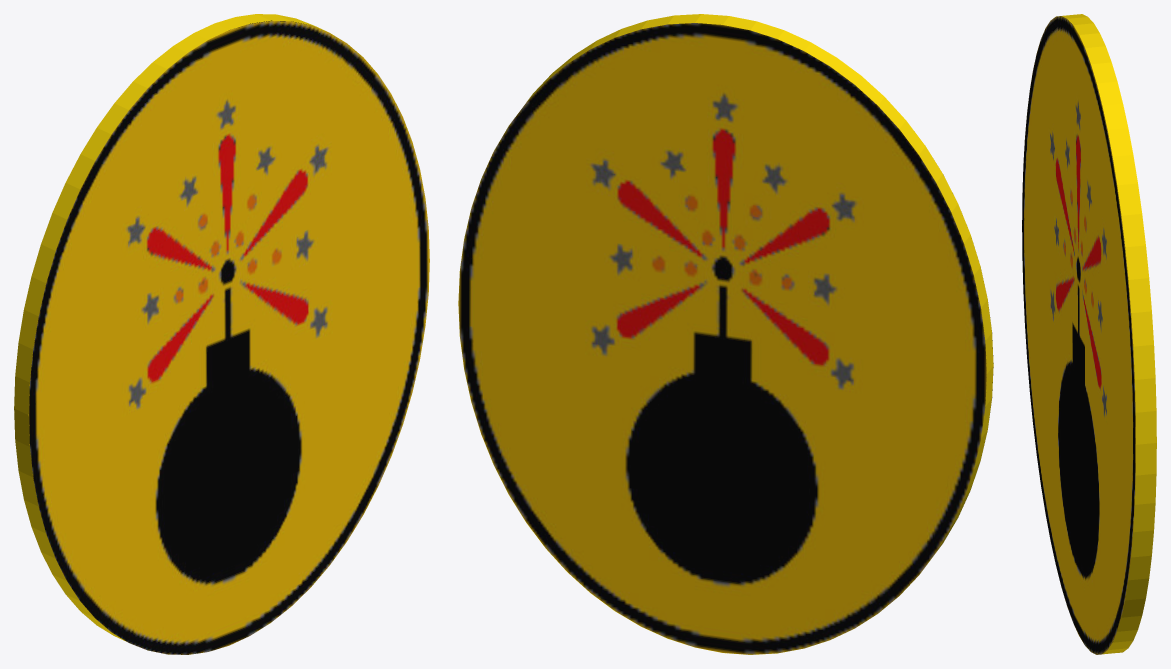
Rendered from coin4.obj.
3 renders of one model, left to right at view 1: azimuth 30°, elevation 25°; view 2: azimuth 150°, elevation 25°; view 3: azimuth 270°, elevation 25°, orthographic. The views are drawn at different scales.
Visible parts, largest first — view 1: Circle.005, Circle.006; view 2: Circle.001_Circle.000, Circle.006; view 3: Circle.005, Circle.006.
Boxes of the visible parts, x1,y1,x2,y2 form: Circle.005: (29, 21, 429, 654); Circle.006: (14, 14, 397, 641); Circle.001_Circle.000: (458, 23, 986, 654); Circle.006: (458, 14, 993, 654); Circle.005: (1022, 16, 1135, 654); Circle.006: (1056, 14, 1156, 654).
Bounding box in the file's own units: 3.94 × 5 × 1.02.
Materials: 3 (3 with a texture image).
